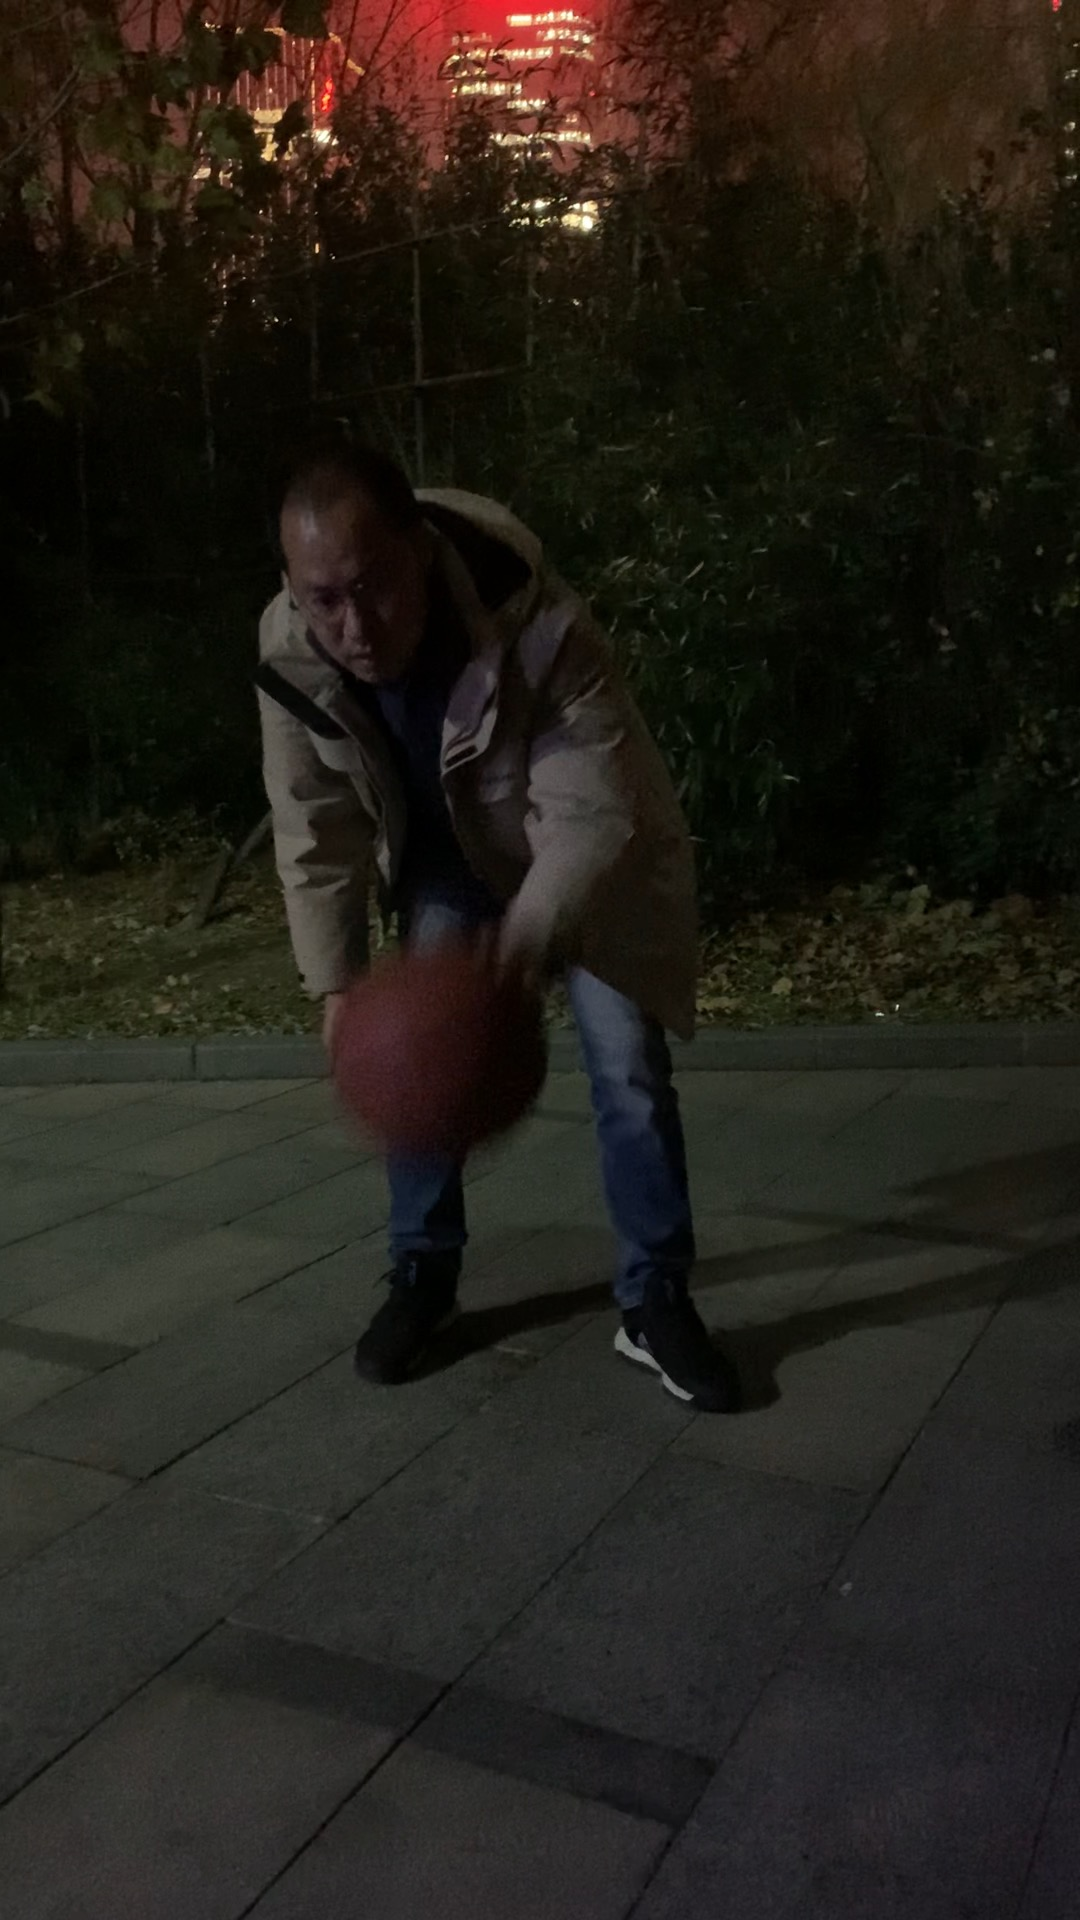ball: (332, 947, 550, 1156)
